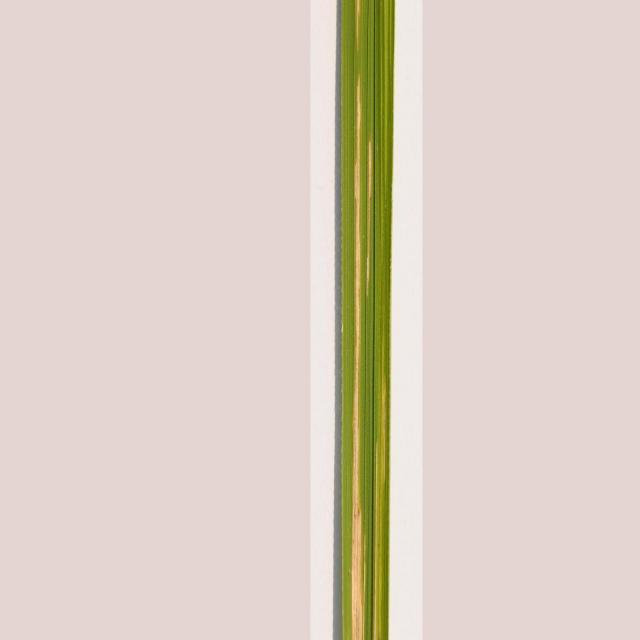leaf blight: (329, 1, 393, 638)
